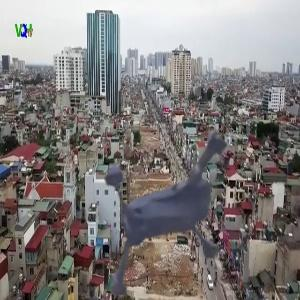drone: (68, 80, 278, 290)
